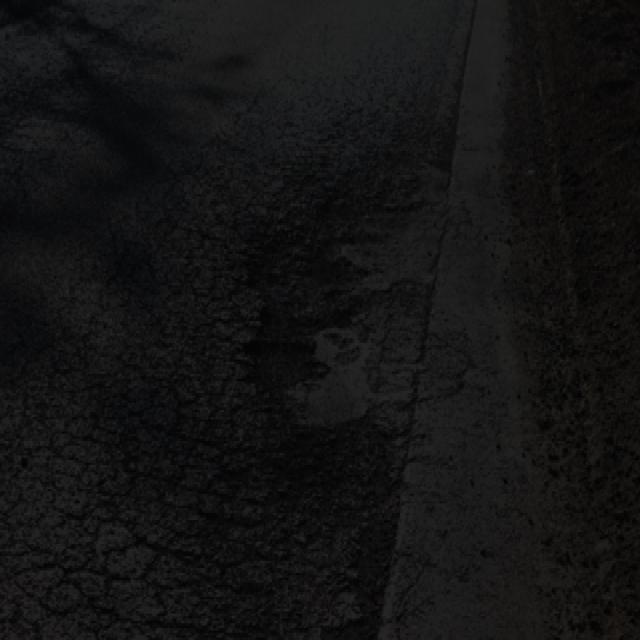pothole: (256, 92, 448, 506)
